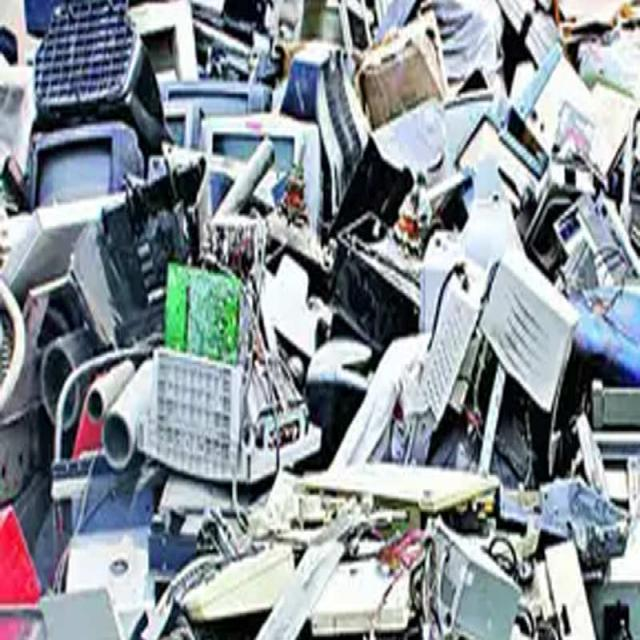heap: (25, 26, 628, 640)
